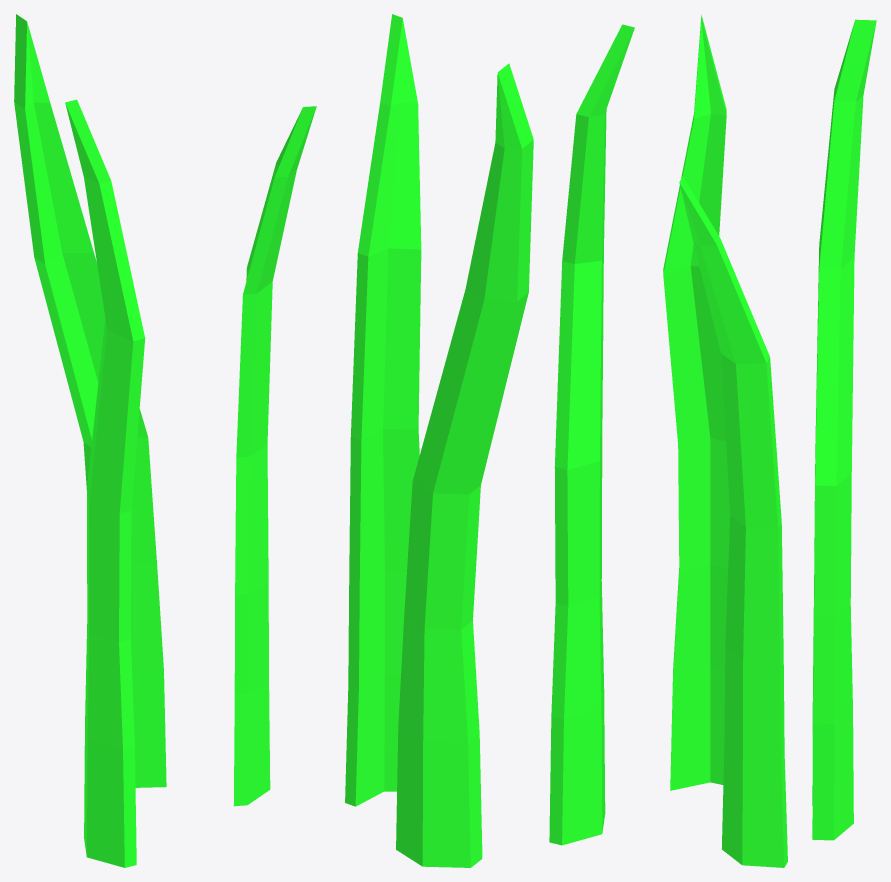
File: GrassyGrassfat.fbx
3 views of the same model, side by side, from view 1: azimuth 30°, elevation 25°; view 2: azimuth 150°, elevation 25°; view 3: azimuth 270°, elevation 25° (orthographic). The views are drawn at different scales.
Parts seen in each view (by area): view 1: Plane.005; view 2: Plane.005; view 3: Plane.005.
Part boxes in pixels (bbox=[...]): Plane.005: bbox=[14, 14, 316, 867]; Plane.005: bbox=[345, 14, 634, 867]; Plane.005: bbox=[663, 14, 876, 867].
Size of the model in its own units: 65.23 by 202 by 51.11.
